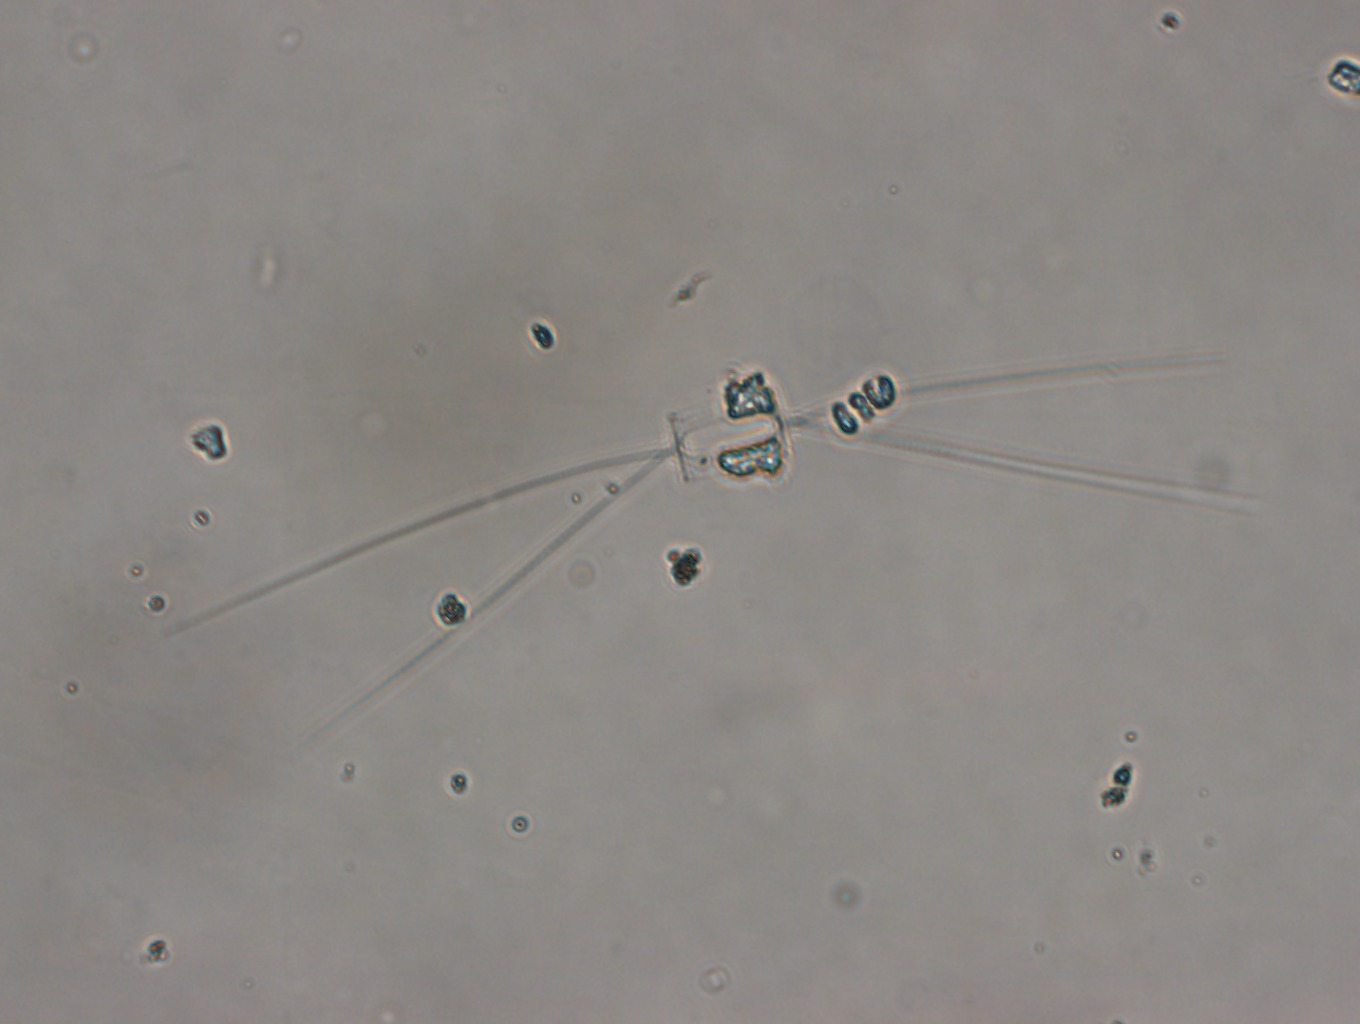chaetoceros: (169, 341, 1241, 779)
